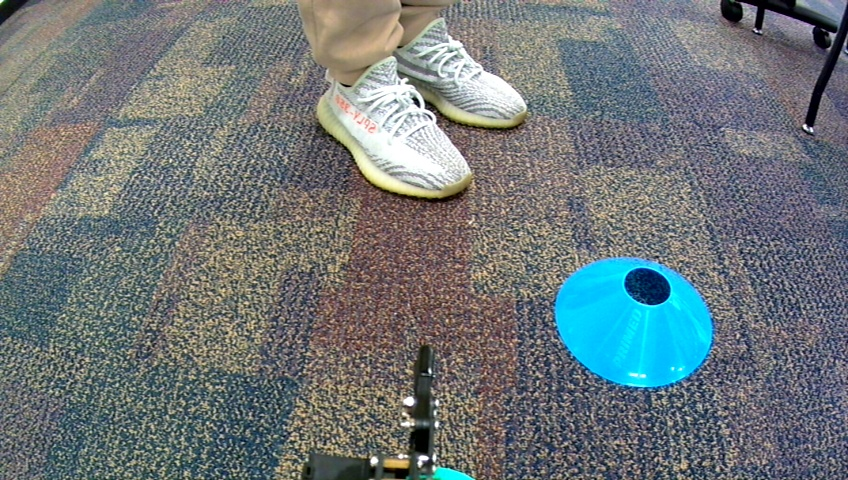cone: (554, 255, 716, 388)
